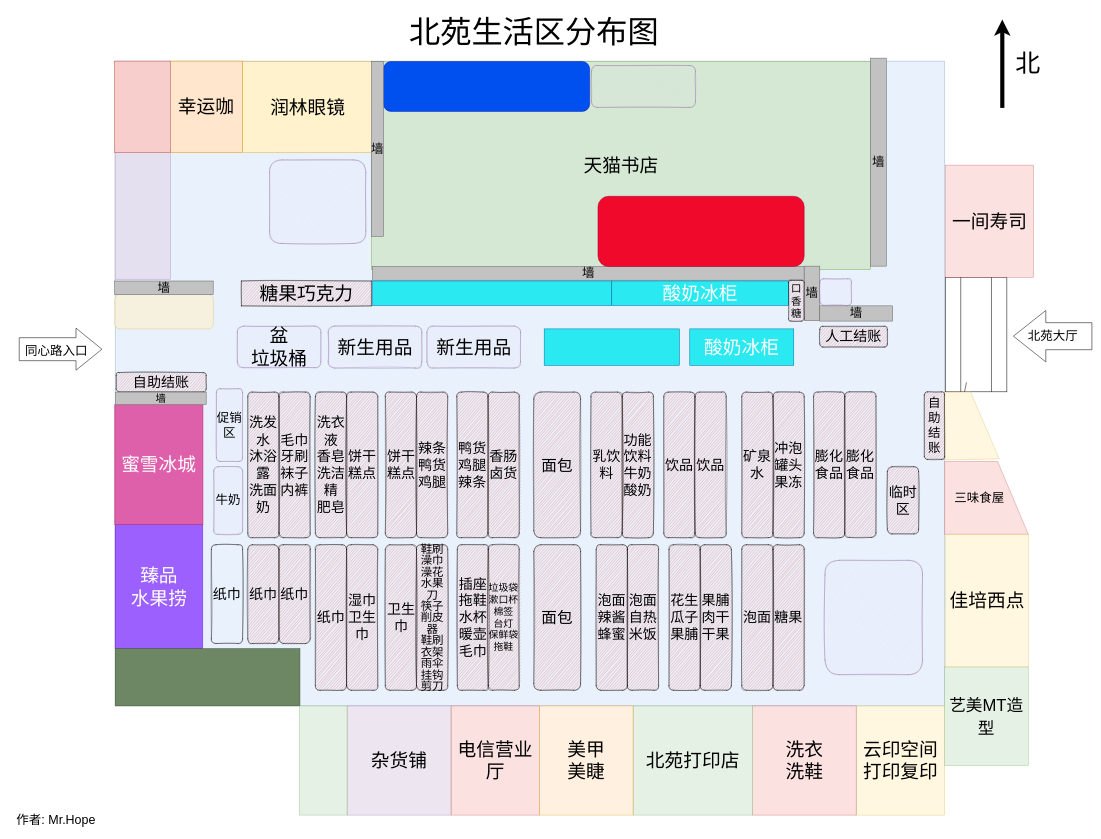
The diagram is 1101 pixels wide and 839 high, and some of its shapes have lost their labels. Here are the shapes that lost their labels. From the top down, the centre of each, then its label:
At pixel 486 86: "瑞幸咖啡".
At pixel 643 86: "东师文创区".
At pixel 142 107: "葱蜂 鲜果".
At pixel 142 214: "甜啦啦".
At pixel 317 201: "休闲区 桌椅".
At pixel 700 231: "塔斯汀中国汉堡".
At pixel 163 311: "鲜花".
At pixel 492 293: "饮品冰柜".
At pixel 835 292: "回收机".
At pixel 611 346: "雪糕 冰激凌".
At pixel 976 334: "楼梯".
At pixel 971 425: "馋嘴 小铺".
At pixel 873 617: "苹果校园体验中心".
At pixel 207 677: "消防楼梯".
At pixel 323 760: "办公室".
